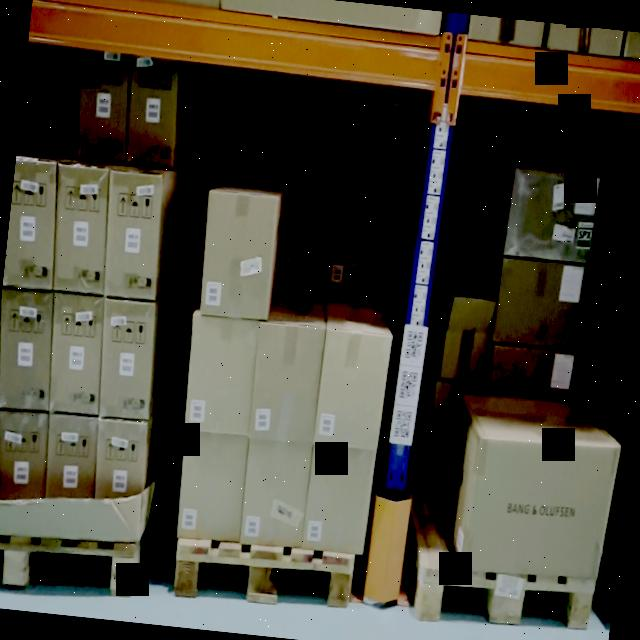box: (463, 438, 620, 580), (200, 194, 278, 318), (504, 165, 600, 262), (314, 330, 390, 449), (249, 324, 324, 444), (184, 316, 258, 434), (492, 258, 584, 349), (240, 438, 310, 550), (104, 171, 162, 300), (178, 432, 246, 542), (304, 444, 373, 552), (53, 164, 109, 294), (2, 158, 56, 289), (99, 298, 155, 420), (50, 293, 102, 415), (0, 289, 52, 411), (126, 52, 179, 168), (77, 50, 130, 163), (487, 344, 574, 402), (96, 418, 149, 499), (47, 414, 98, 498), (0, 411, 48, 498), (440, 330, 488, 382)
